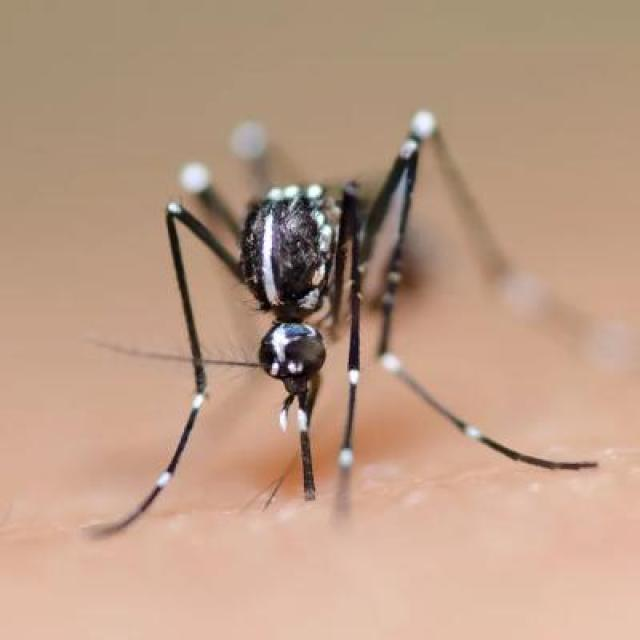antennae: (94, 328, 276, 381)
body: (236, 182, 358, 387)
insect: (88, 107, 602, 544)
legs: (338, 115, 600, 505), (93, 136, 241, 534)
mouthpart: (268, 374, 335, 507)
